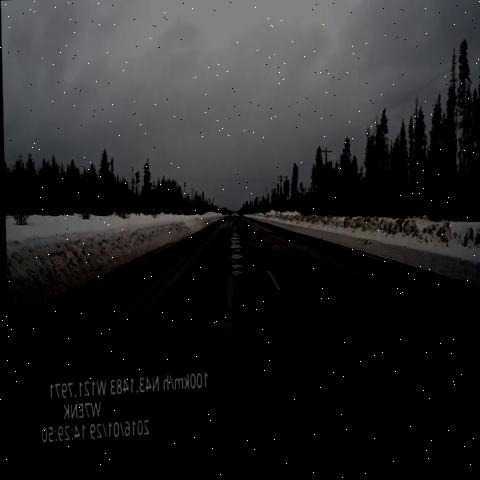pothole: (227, 227, 243, 284), (250, 229, 264, 246), (267, 230, 281, 247)
